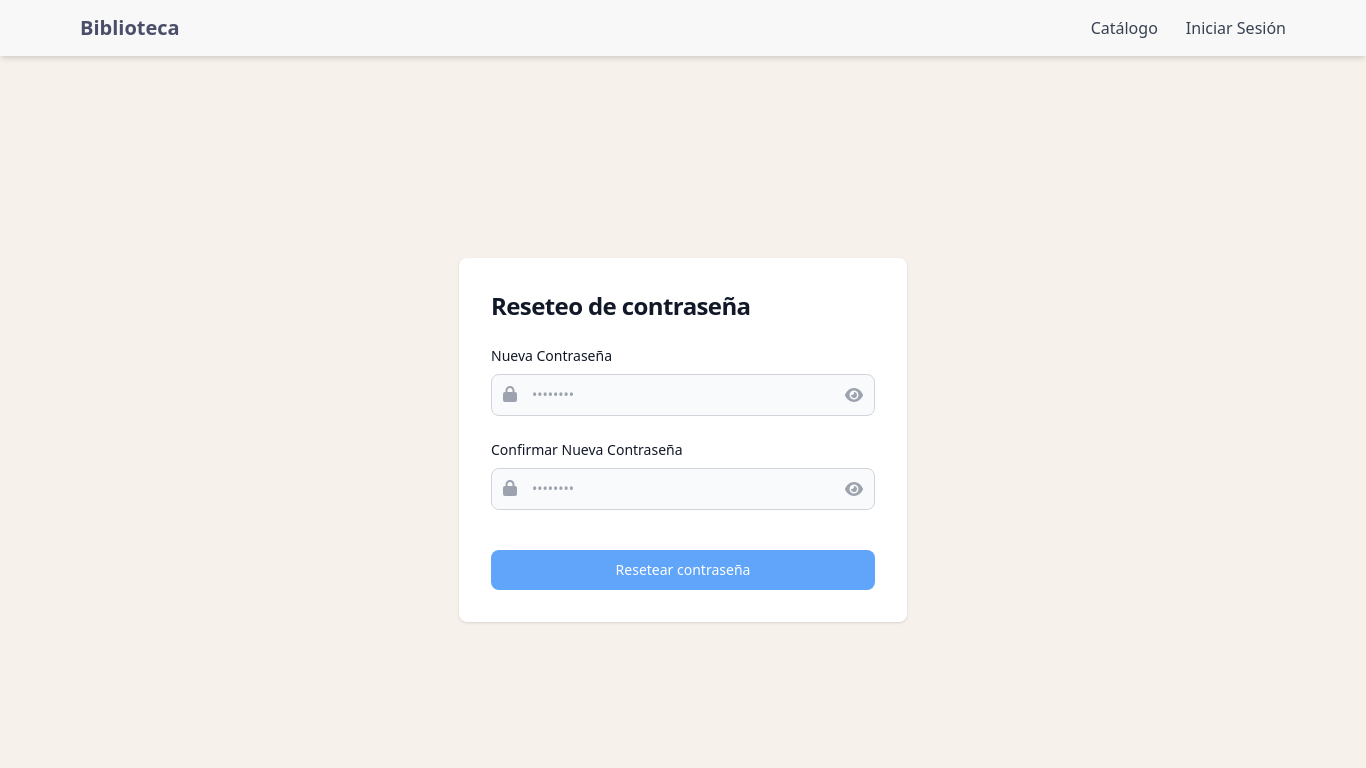
Test case: should handle form submission with missing code
In the password field with test id "password": (683, 395) x1=491 y1=374 x2=875 y2=416, type "newpassword"
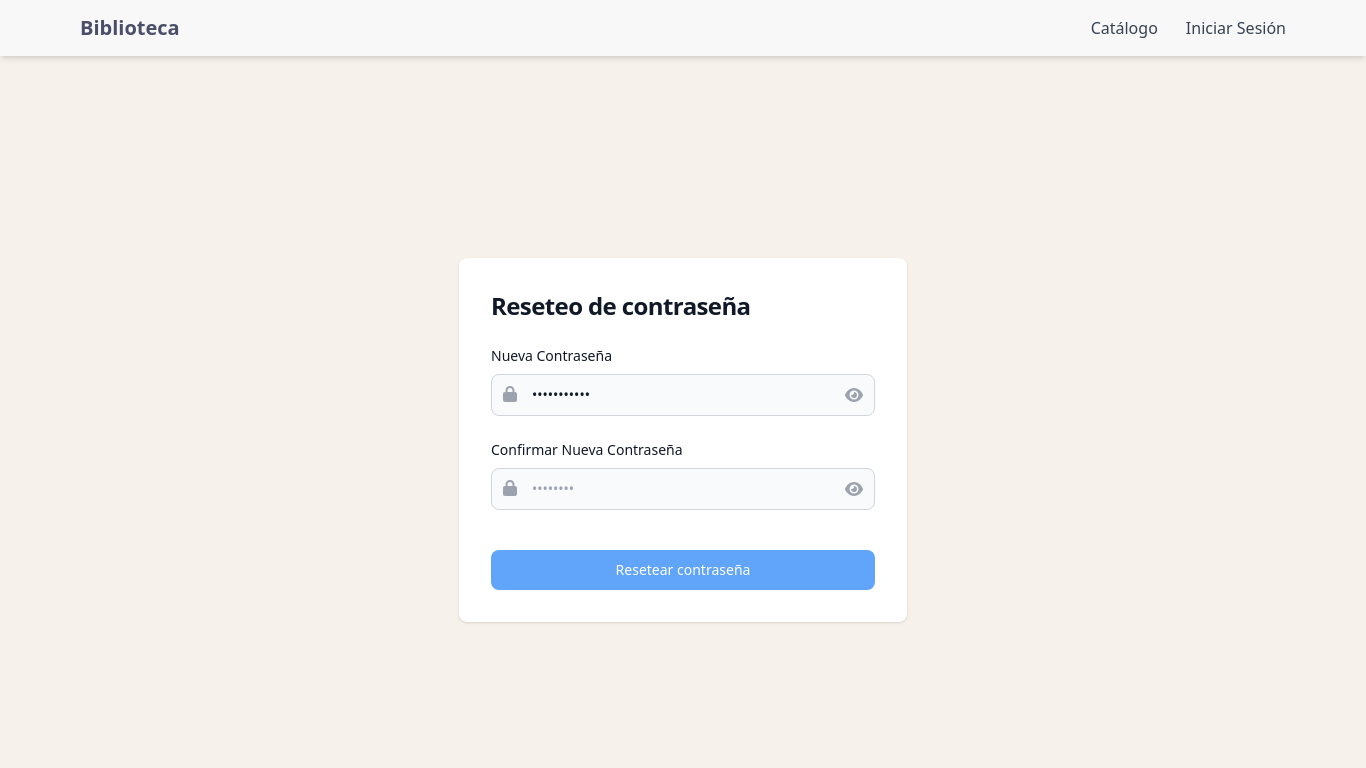
In the password field with test id "passwordConfirmation": (683, 489) x1=491 y1=468 x2=875 y2=510, type "newpassword"
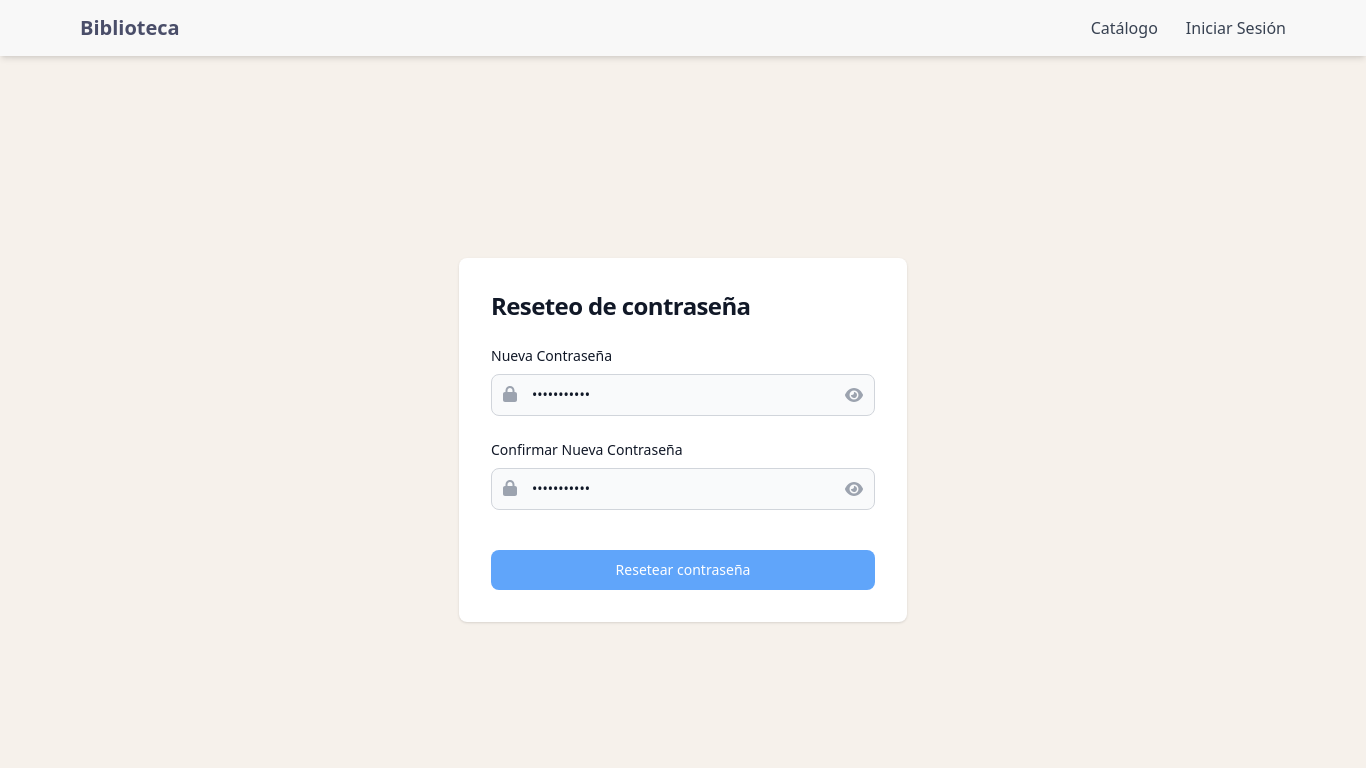
Click the button "Resetear contraseña": (683, 570) x1=491 y1=550 x2=875 y2=590
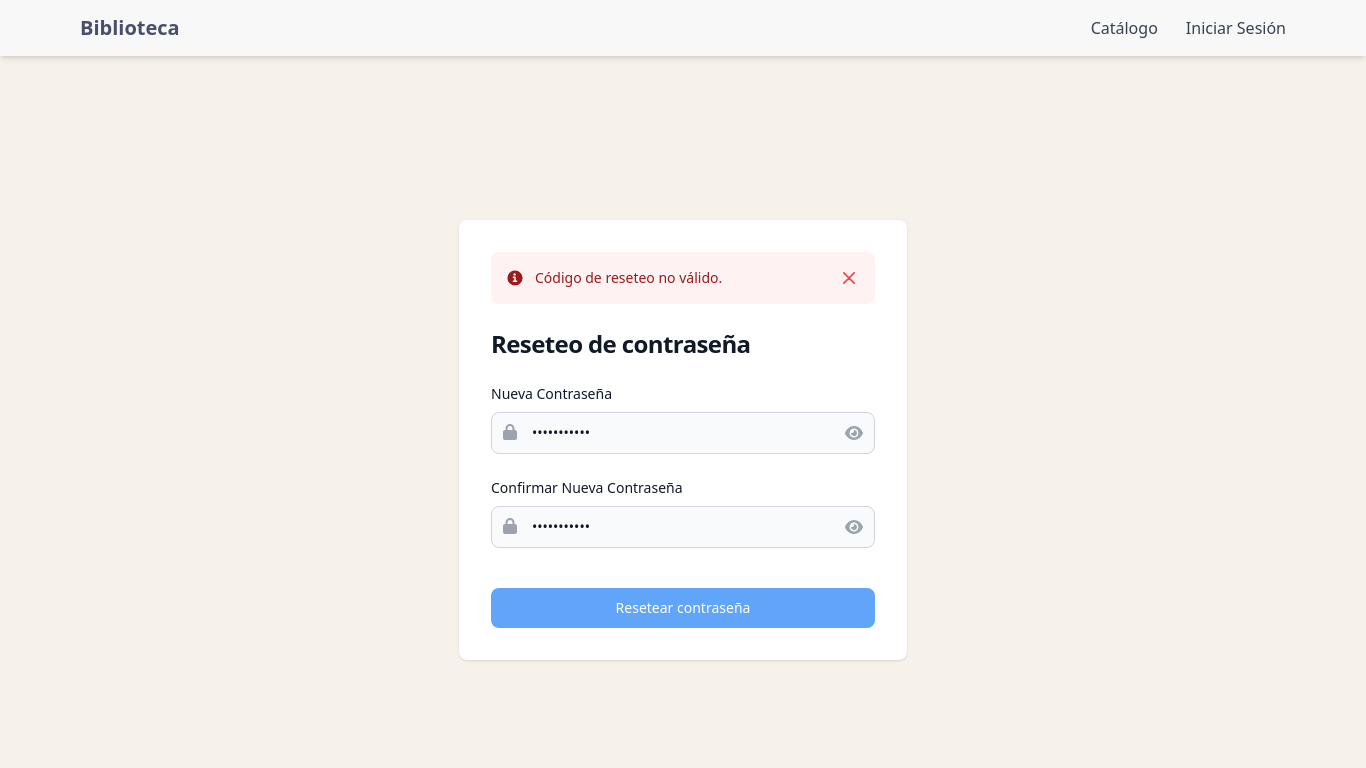
Expected: the text "Código de reseteo no válido." is shown, x1=535 y1=268 x2=722 y2=288
